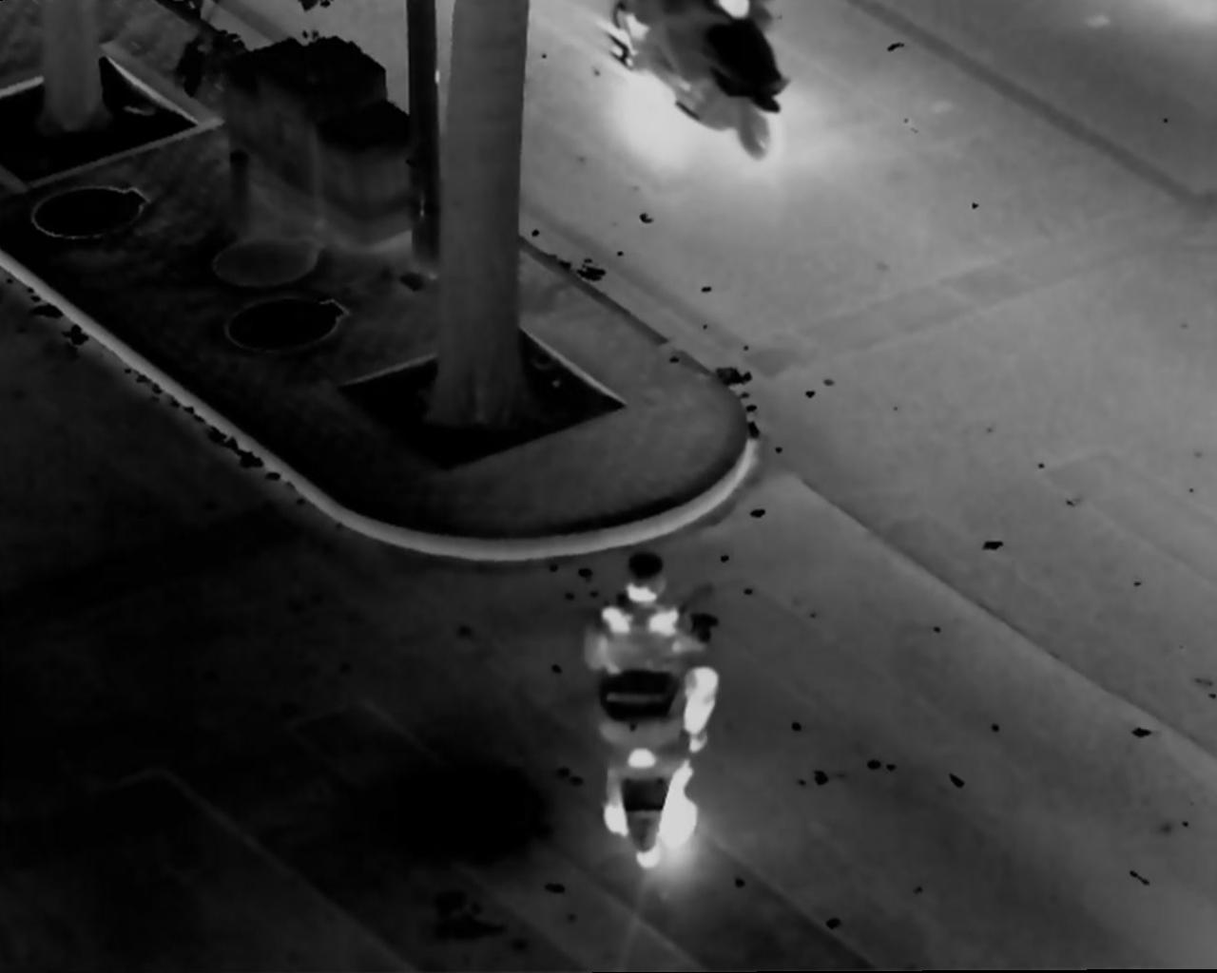person: (579, 545, 726, 883)
